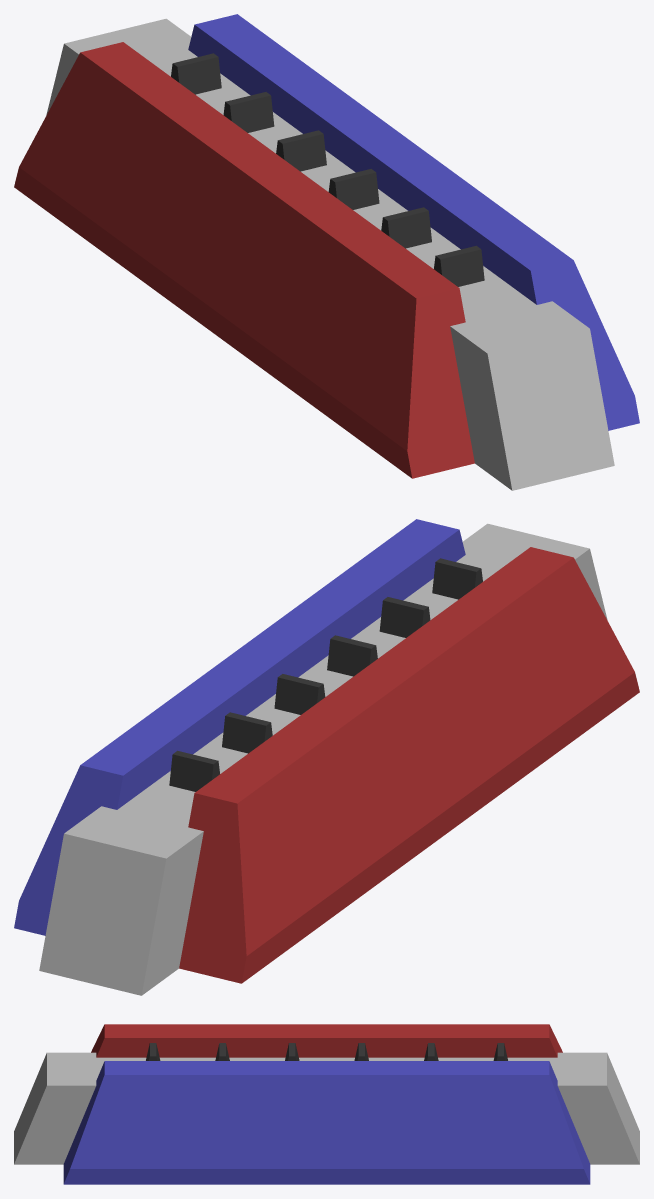
The model's file is resource_island_base.dae.
The picture shows the model from 3 angles, top to bottom: view 1: azimuth 30°, elevation 25°; view 2: azimuth 150°, elevation 25°; view 3: azimuth 270°, elevation 25°; orthographic projection. The views are drawn at different scales.
Parts seen in each view (by area): view 1: resource_island_base; view 2: resource_island_base; view 3: resource_island_base.
Boxes of the visible parts, x1,y1,x2,y2 form: resource_island_base: [14, 14, 639, 490]; resource_island_base: [14, 519, 639, 995]; resource_island_base: [14, 1024, 639, 1184].
Bounding box in the file's own units: 0.8 × 2.88 × 0.5.
